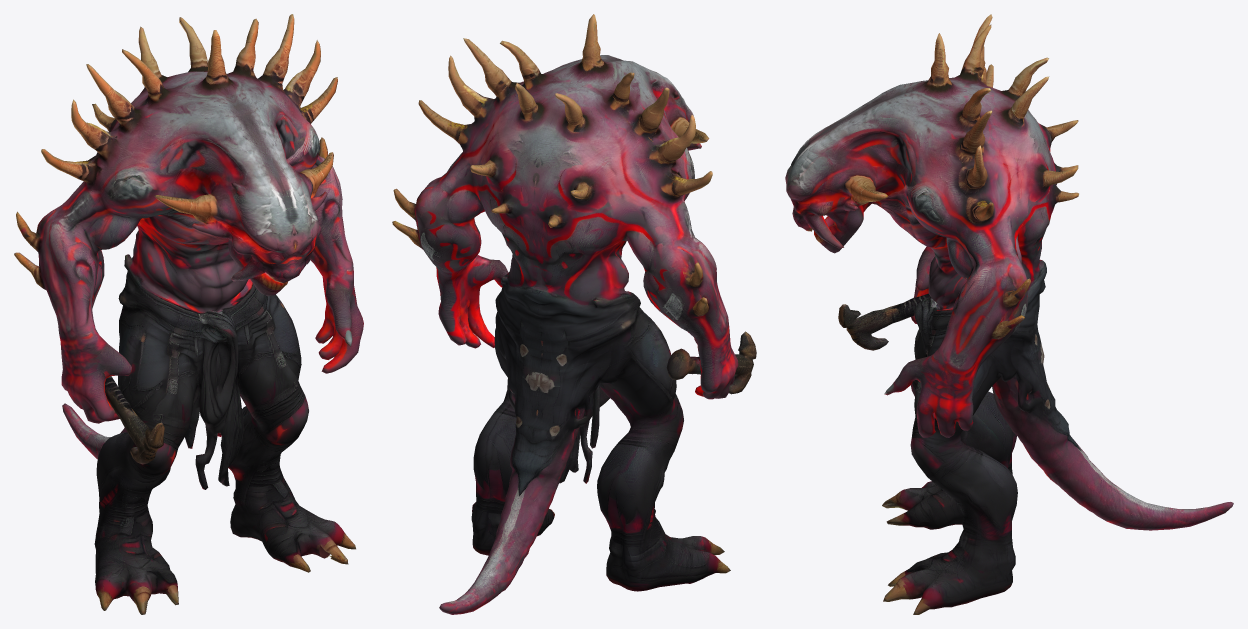
Rendered from fracture-born-ravager.glb.
3 renders of one model, left to right at view 1: azimuth 30°, elevation 25°; view 2: azimuth 150°, elevation 25°; view 3: azimuth 270°, elevation 25°, orthographic. The views are drawn at different scales.
Bounding box in the file's own units: 1.15 × 1.88 × 1.46.
1 material, 1 textured.
